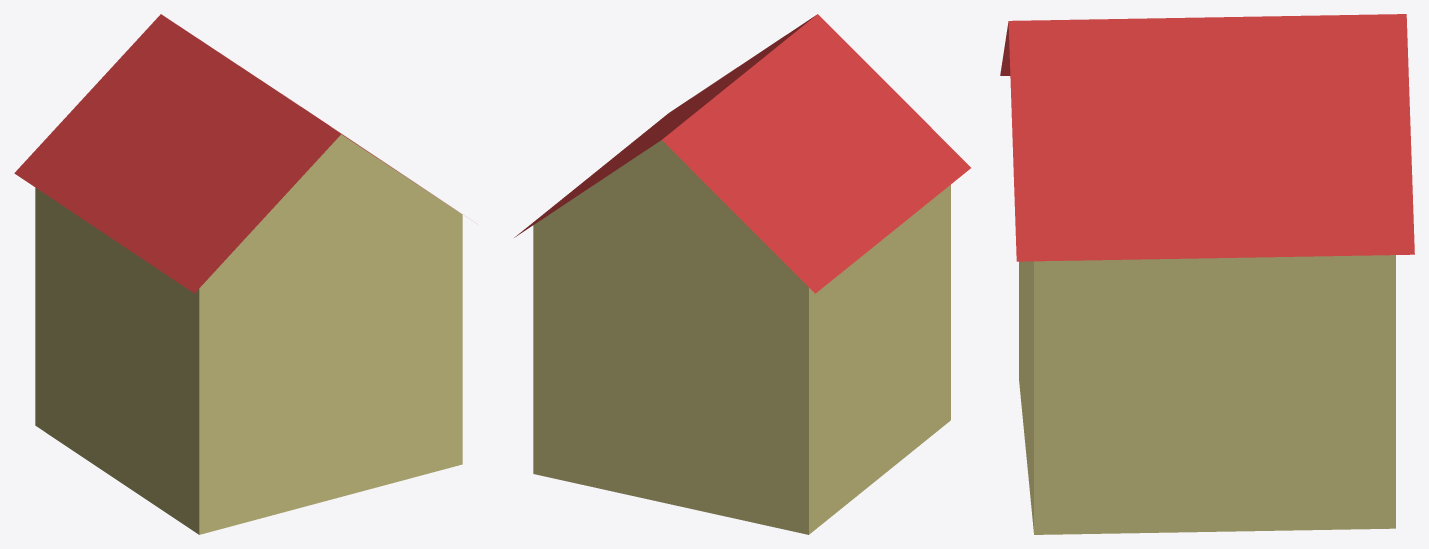
The picture shows the model from 3 angles, left to right: view 1: azimuth 30°, elevation 25°; view 2: azimuth 150°, elevation 25°; view 3: azimuth 270°, elevation 25°; orthographic projection. The views are drawn at different scales.
Size of the model in its own units: 11.59 by 11.42 by 13.3.
